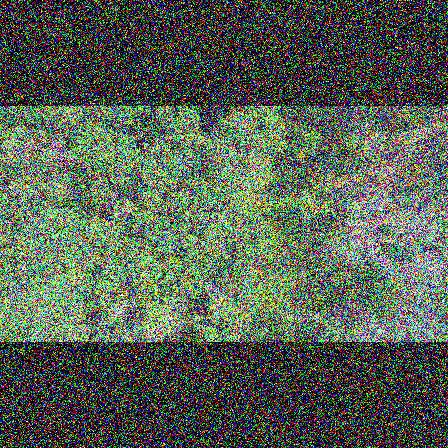Dead: (389, 308, 442, 342), (347, 304, 394, 342), (396, 294, 448, 321), (371, 144, 424, 166), (346, 168, 396, 188), (111, 291, 142, 323), (329, 197, 367, 221), (319, 242, 363, 262), (45, 140, 79, 164), (400, 259, 448, 276), (389, 271, 427, 292), (414, 117, 447, 139), (375, 218, 418, 233), (403, 244, 444, 259), (364, 251, 398, 269), (397, 222, 438, 236)
